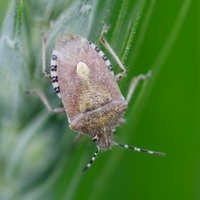insect: (50, 34, 132, 149)
